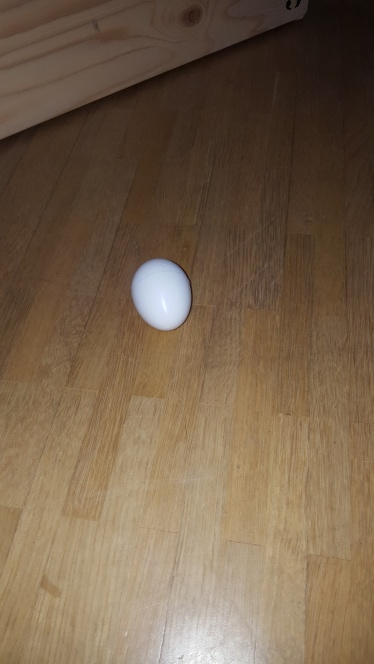egg: (130, 254, 194, 333)
